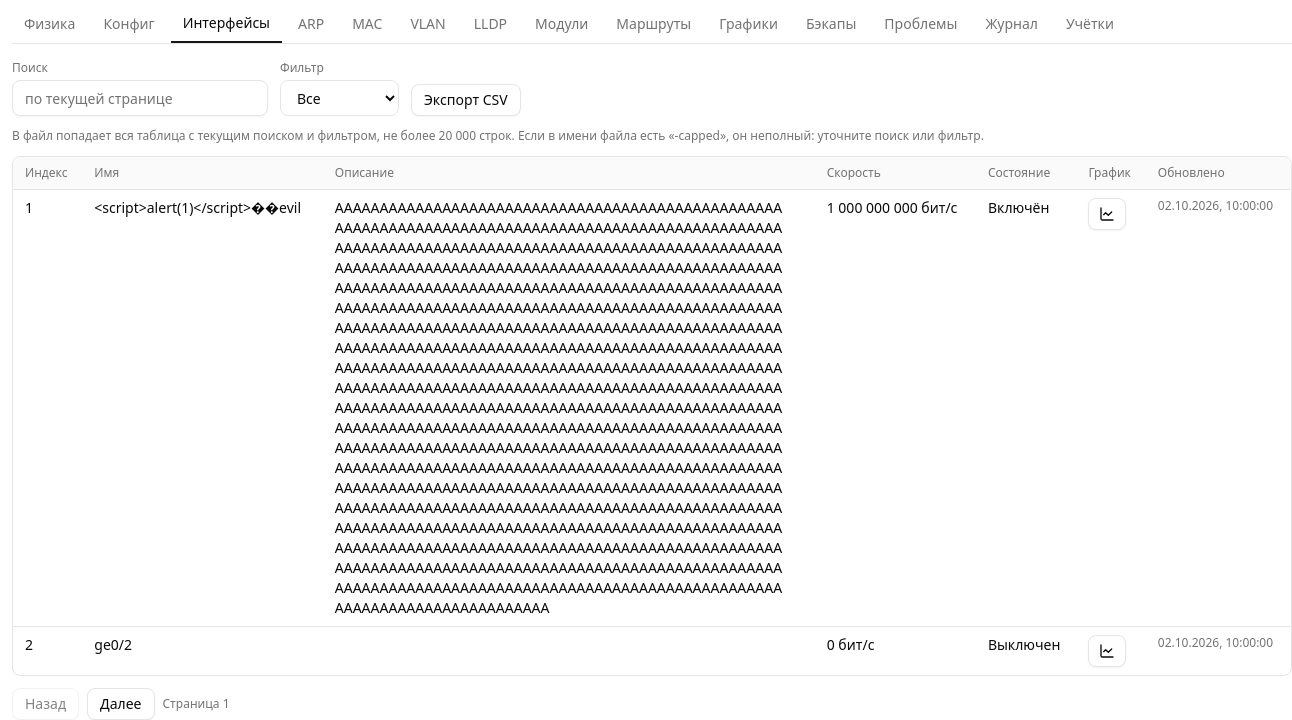
Test: DeviceCard › the chart button of an interface opens the graphs tab for it
(page scrolled)
Click the button named "График интерфейса ge0/2" at (1107, 651), box [1088,635,1126,667]
(page scrolled)
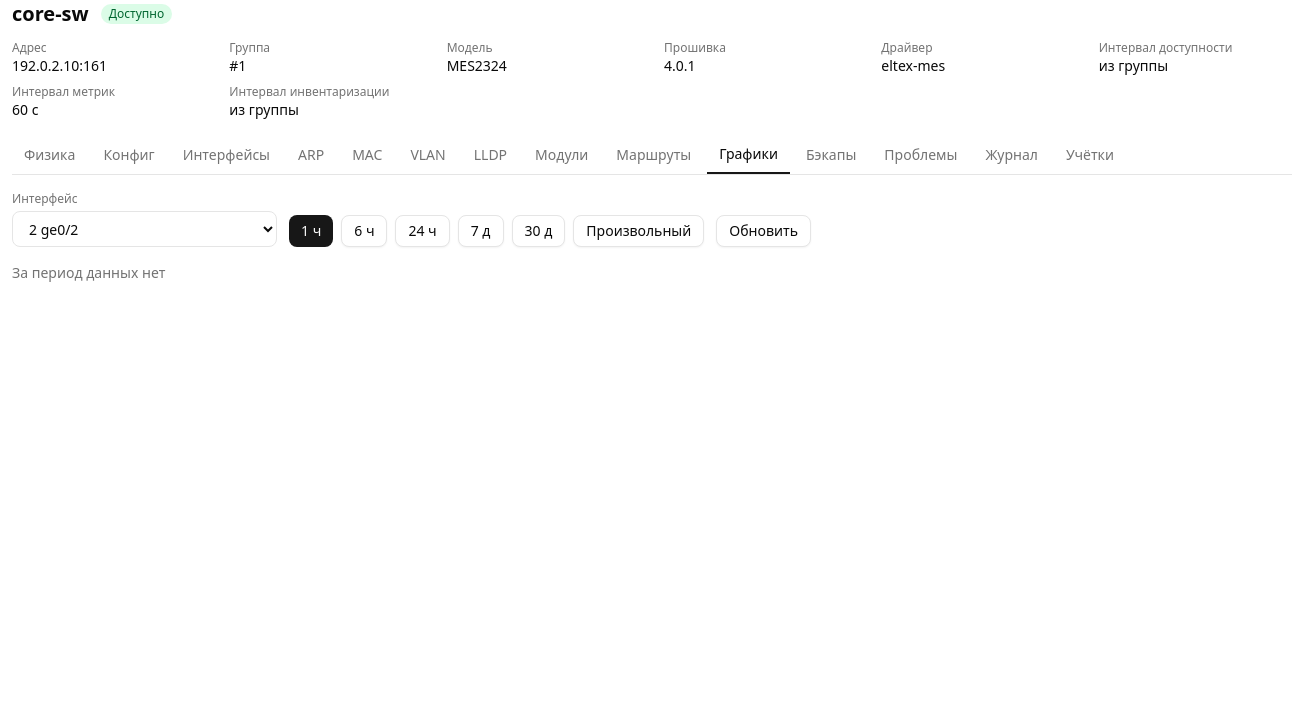
Check: the text "За период данных нет" is shown, box [12,263,166,282]
